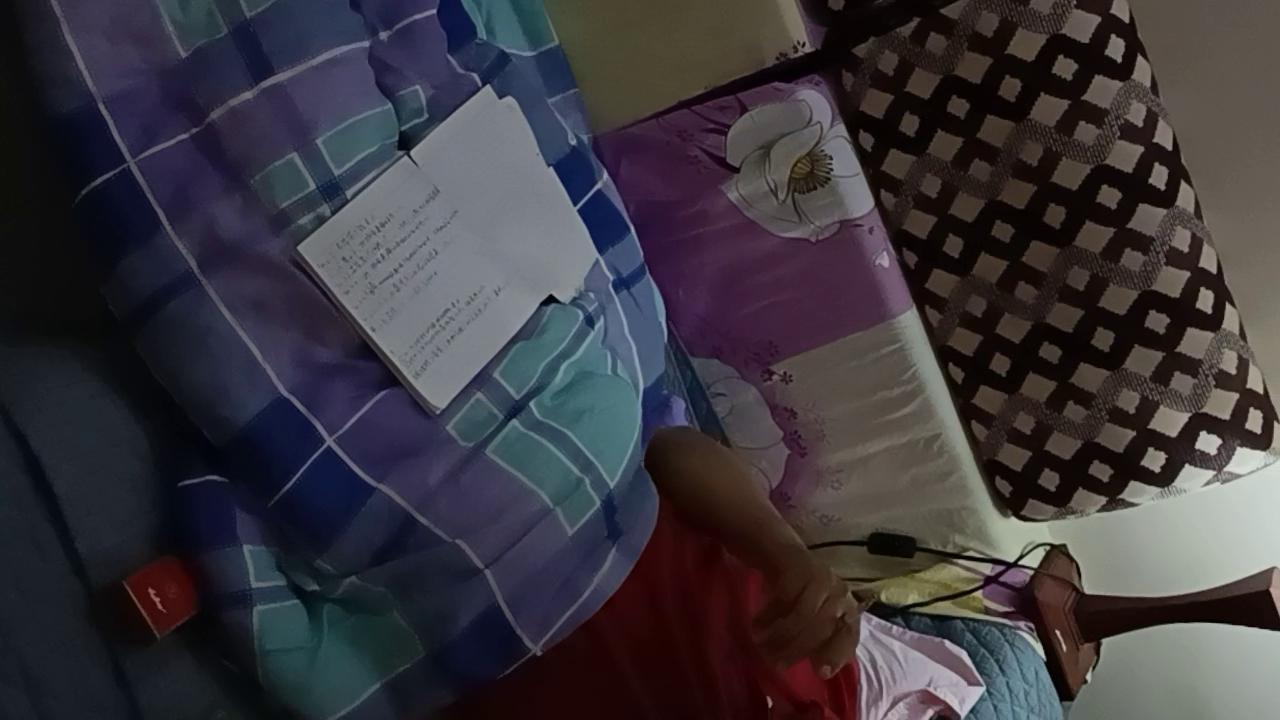smoke: (834, 594, 878, 631)
